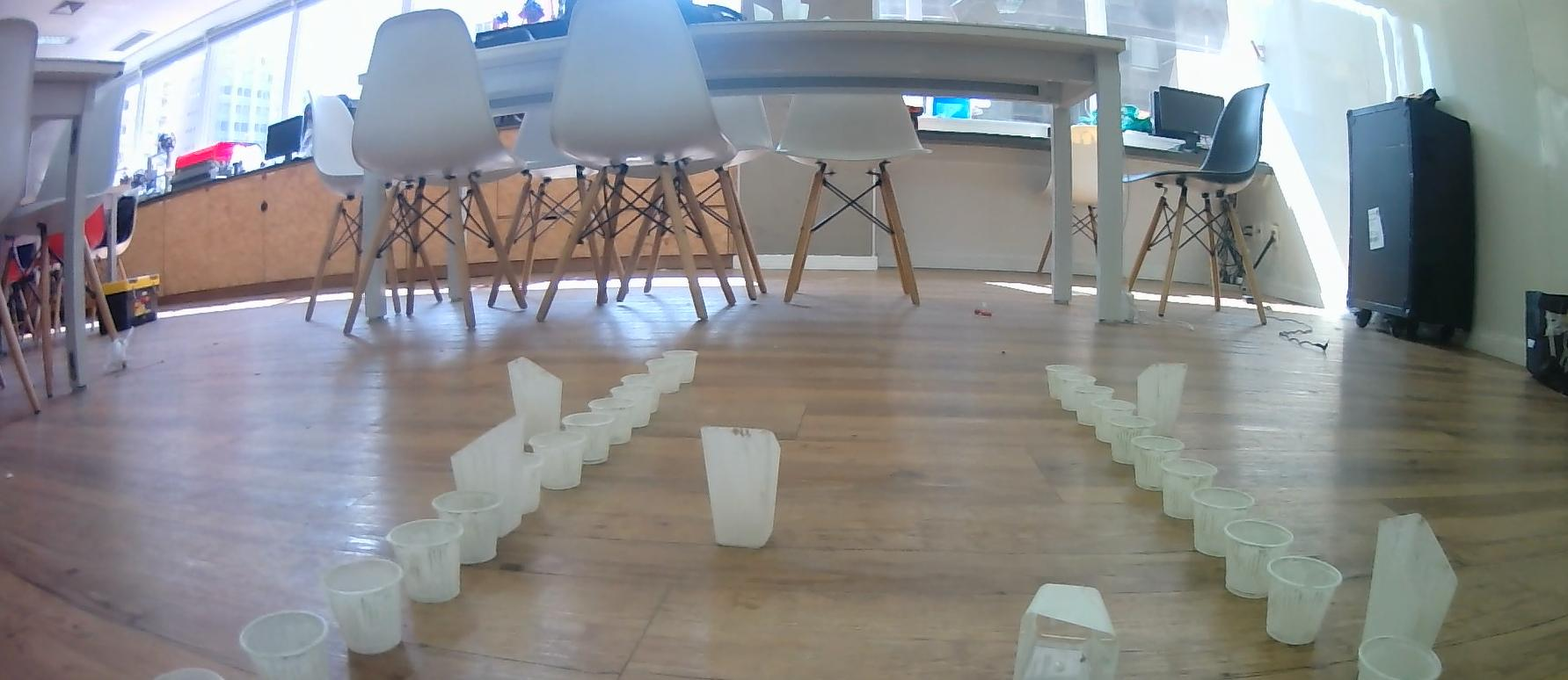erva_daninha: (1360, 512, 1457, 661), (1012, 582, 1119, 680), (699, 424, 782, 549), (449, 412, 525, 516), (507, 357, 564, 452), (1138, 361, 1188, 434)
planta: (319, 557, 405, 655), (1265, 555, 1342, 647), (385, 518, 462, 604), (237, 612, 330, 680), (1222, 519, 1295, 599), (480, 452, 543, 537), (432, 489, 501, 565), (1192, 487, 1253, 558), (1357, 634, 1442, 680), (524, 430, 587, 490), (1161, 459, 1218, 520), (1132, 435, 1190, 492), (562, 412, 613, 465), (1110, 416, 1159, 465), (588, 396, 636, 445), (1092, 399, 1138, 445), (609, 384, 652, 428), (1076, 384, 1116, 428), (621, 373, 661, 415), (1060, 374, 1098, 412), (1045, 363, 1082, 400), (645, 358, 680, 394), (662, 350, 697, 384)
